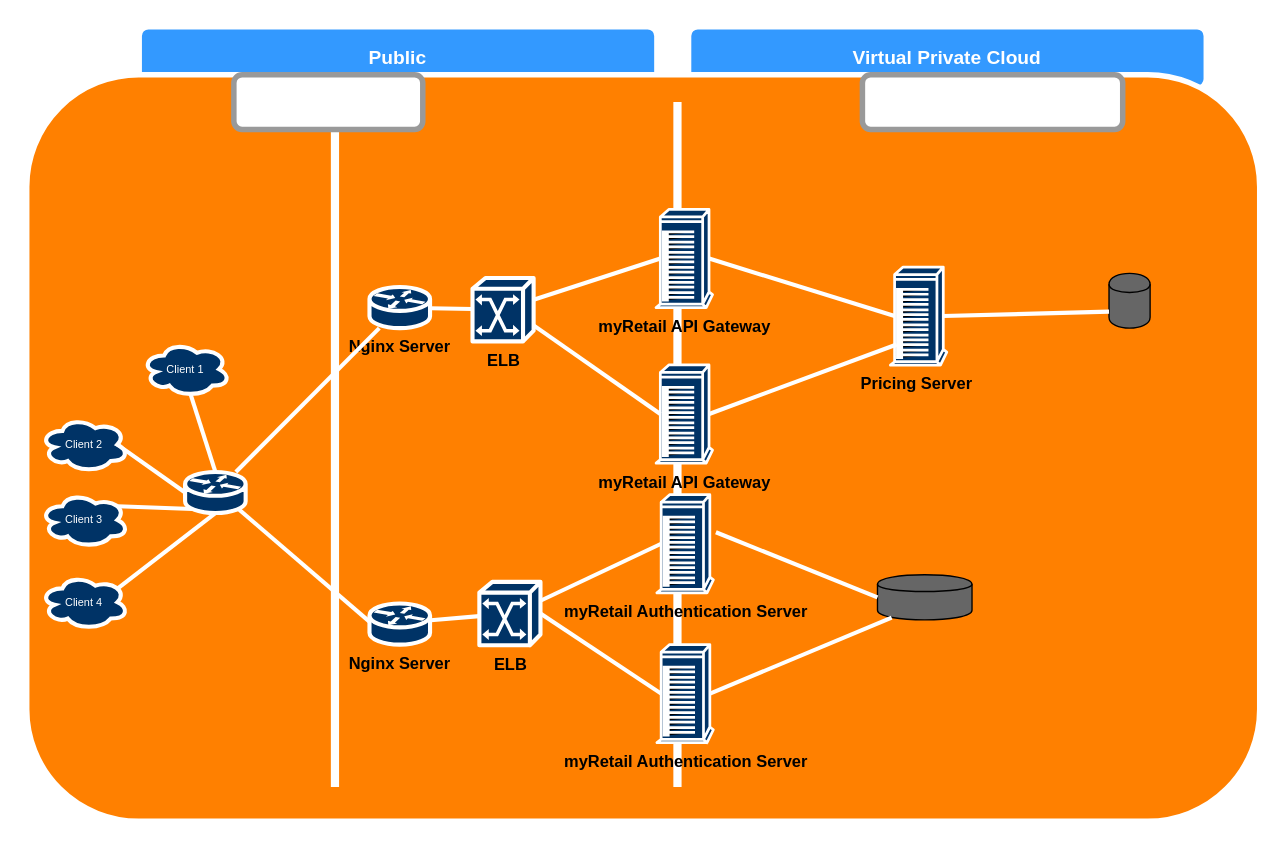
Image size: 1285x847. Some labels were removed from this diagram. Each missing label, with the centre of its shape:
Backend Services: (992,101)
Mongo DB: (1129,300)
My SQL: (924,596)
Public Network: (327,101)
